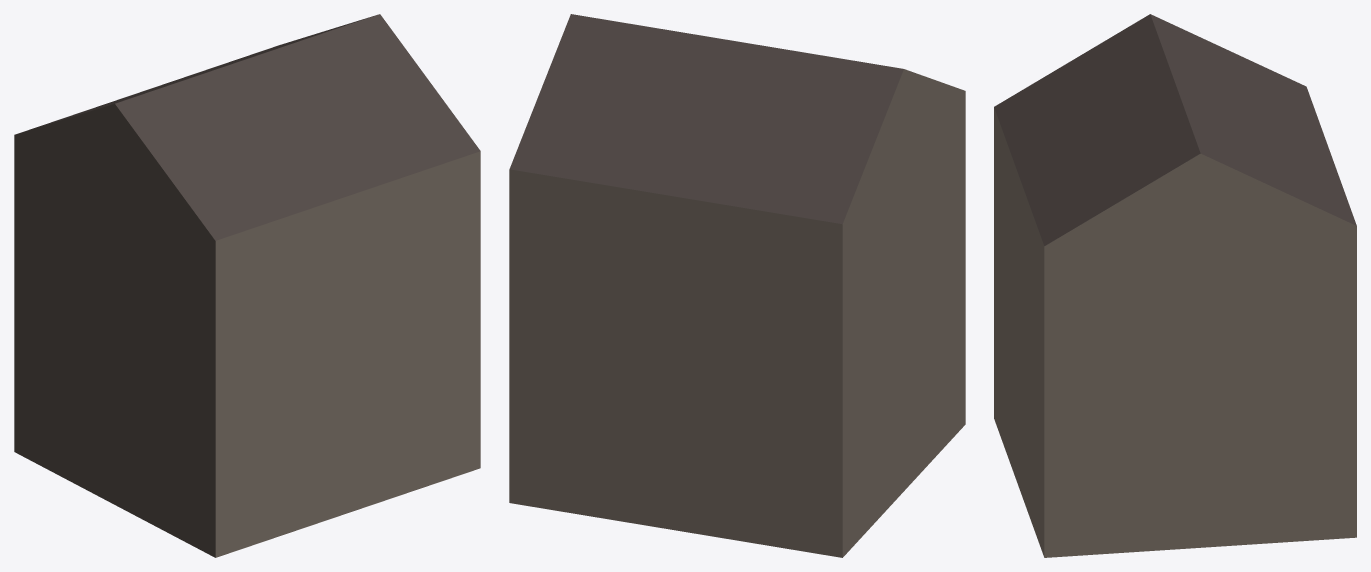
3 renders of one model, left to right at view 1: azimuth 30°, elevation 25°; view 2: azimuth 150°, elevation 25°; view 3: azimuth 270°, elevation 25°, orthographic. The views are drawn at different scales.
Visible parts, largest first — view 1: HP-w1318376923; view 2: HP-w1318376923; view 3: HP-w1318376923.
Part boxes in pixels (x1,y1,x2,y2): HP-w1318376923: (14,14,480,557); HP-w1318376923: (509,14,965,557); HP-w1318376923: (994,14,1356,557).
Bounding box in the file's own units: 9.9 × 11.39 × 9.5.
